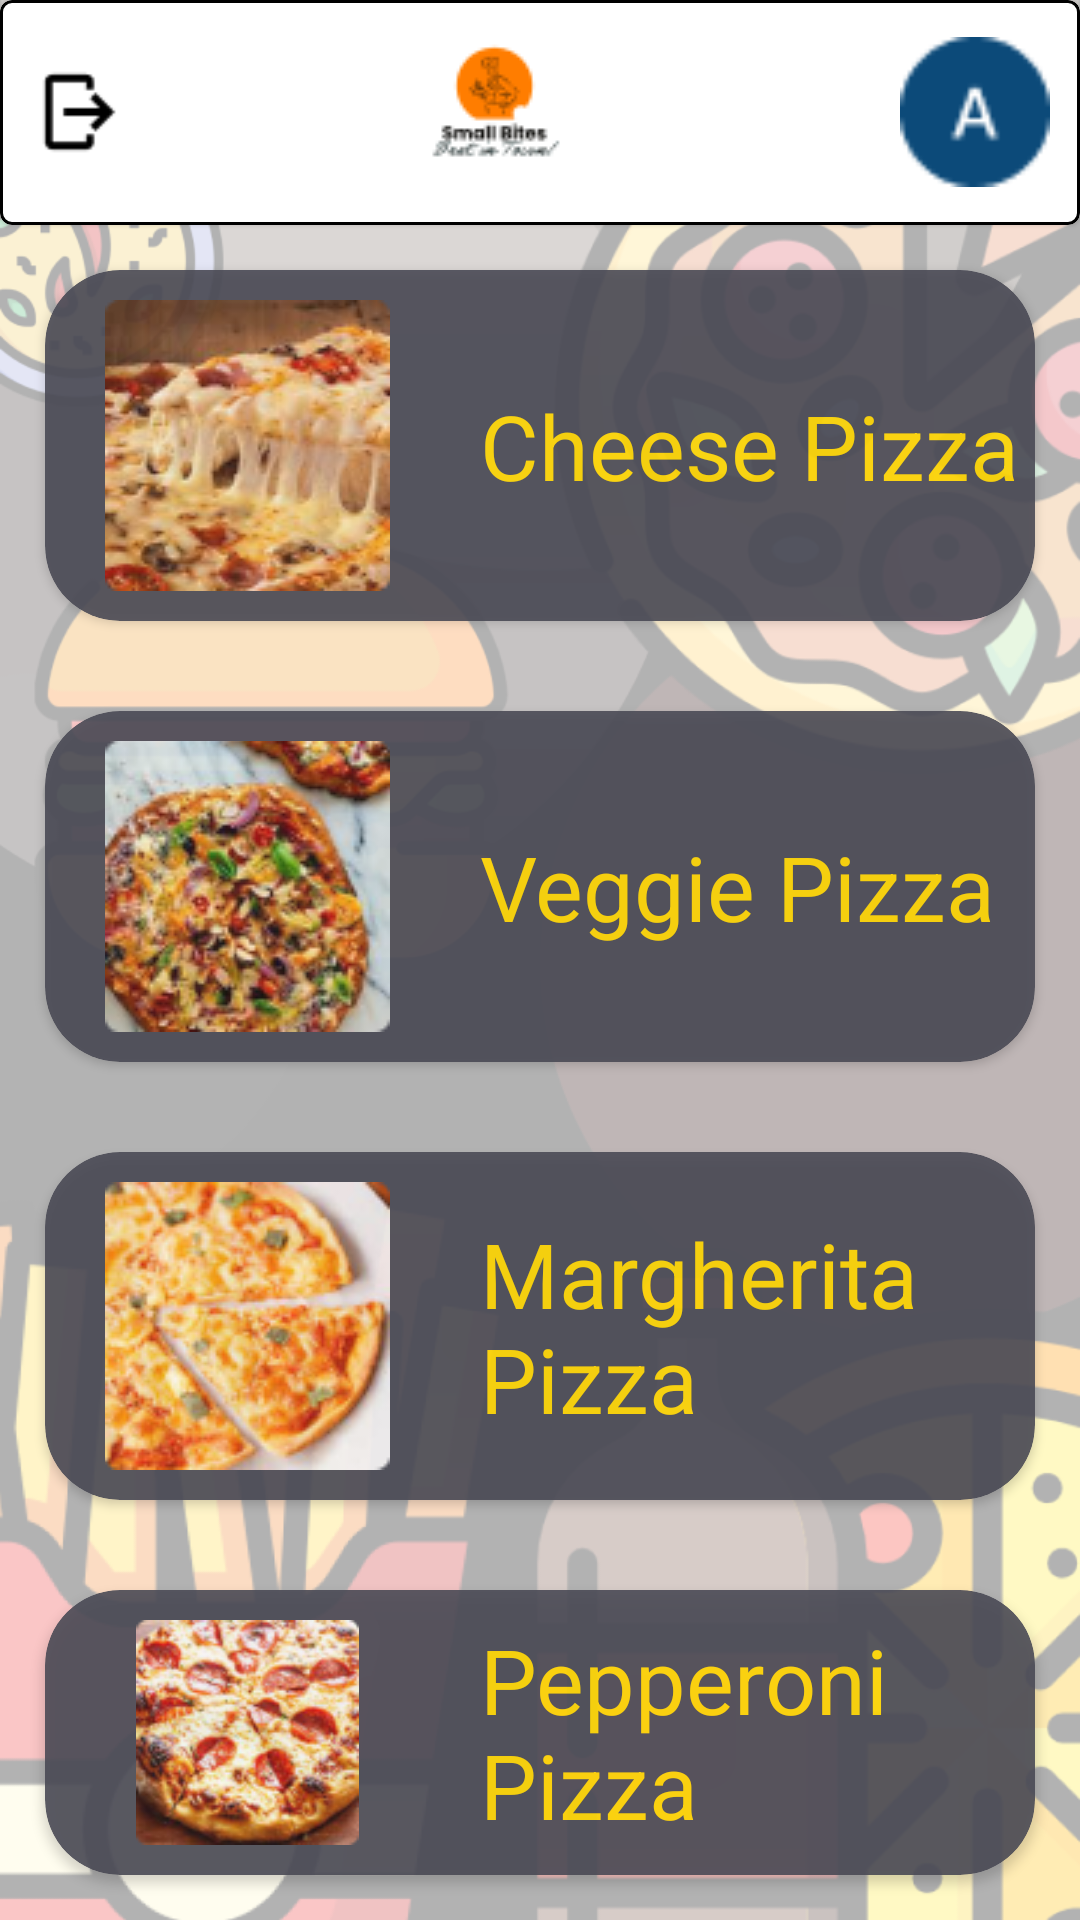

Screen size 1080x1920. Icon name, then its center in pixels as point (x, y):
user: point (975, 112)
